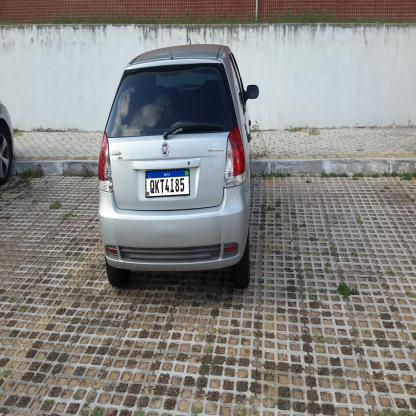PlacaM: (145, 168, 190, 198)
